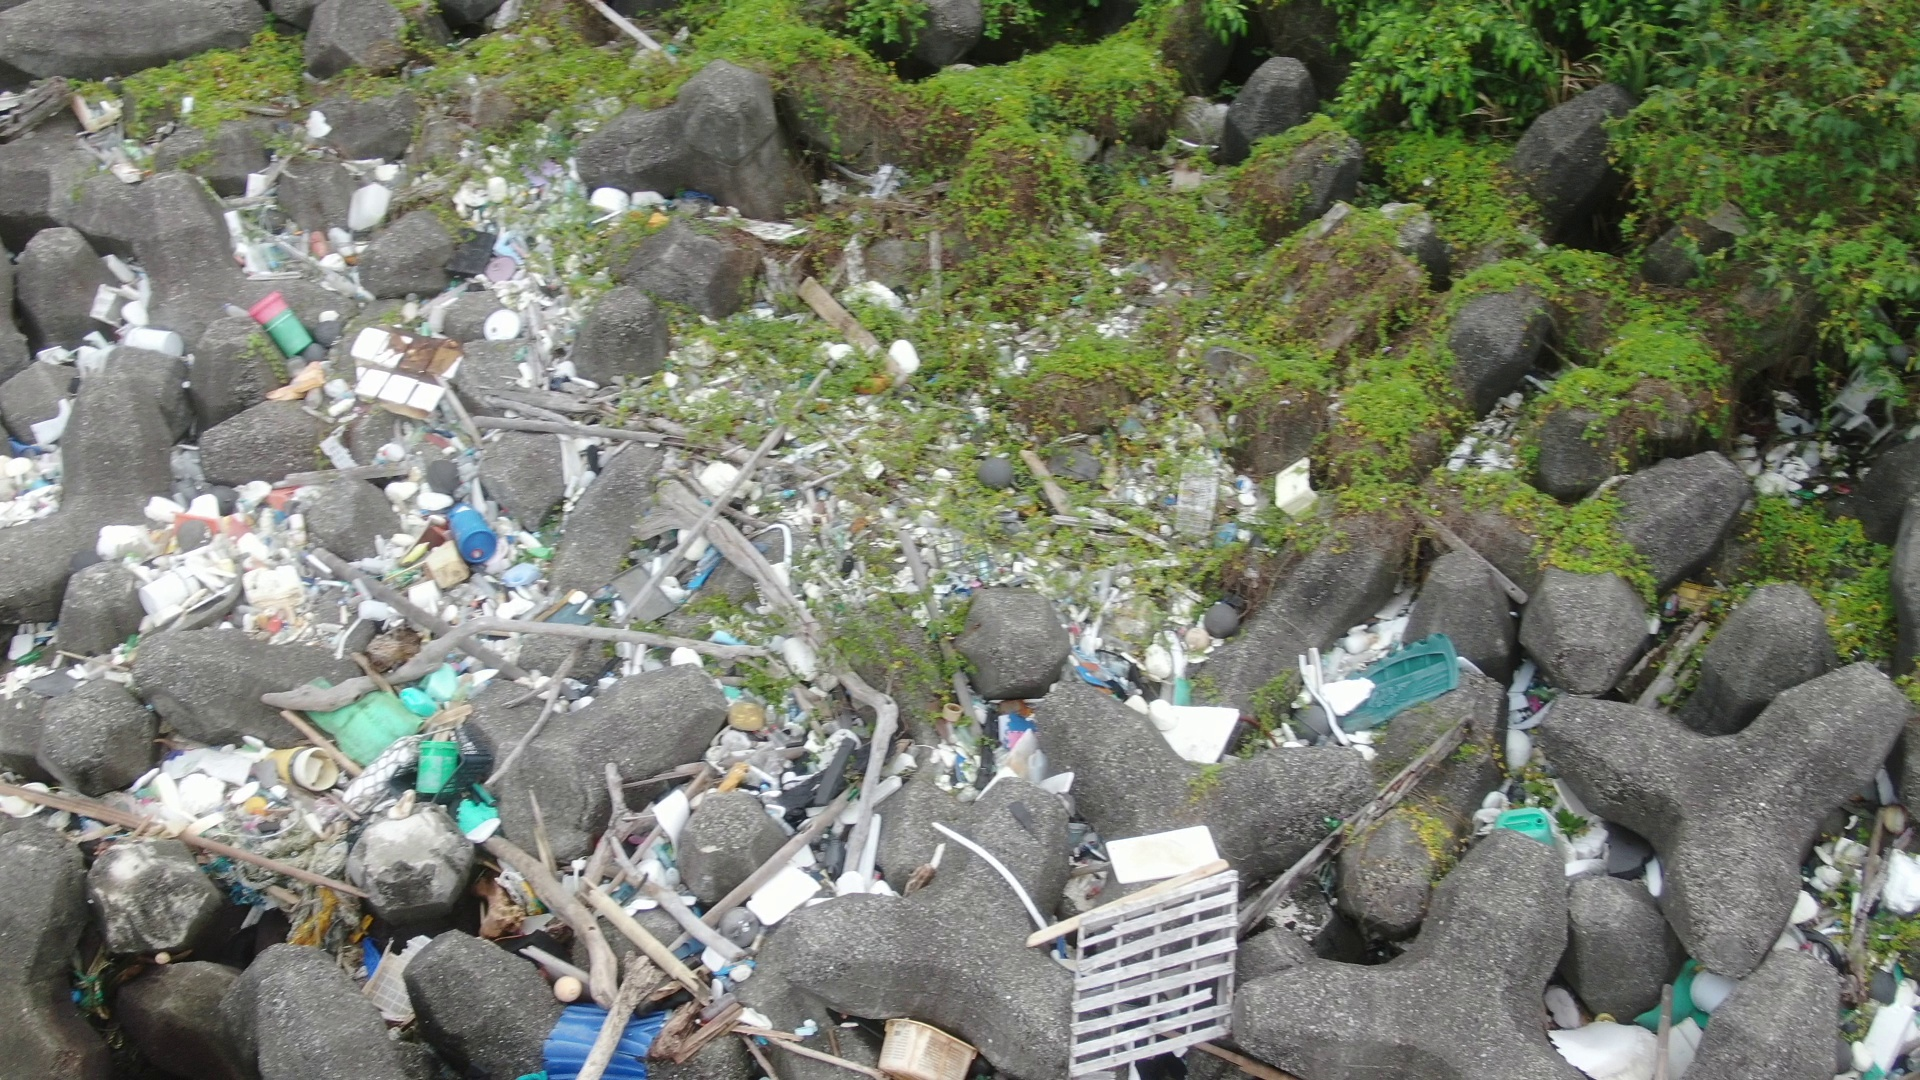garbage: (5, 688, 559, 1013), (535, 670, 930, 1080), (109, 485, 568, 679), (1029, 818, 1255, 1069), (1, 256, 185, 551), (232, 290, 480, 447), (1793, 811, 1920, 1063), (1511, 956, 1768, 1079), (585, 508, 845, 622), (1739, 365, 1920, 520), (1278, 629, 1493, 746), (214, 102, 345, 290), (1468, 795, 1687, 909), (338, 154, 516, 286), (932, 673, 1083, 820), (775, 274, 927, 401), (3, 588, 145, 717), (673, 427, 848, 516), (1114, 698, 1265, 770), (1225, 436, 1327, 533), (575, 165, 694, 233), (860, 1026, 996, 1080)
